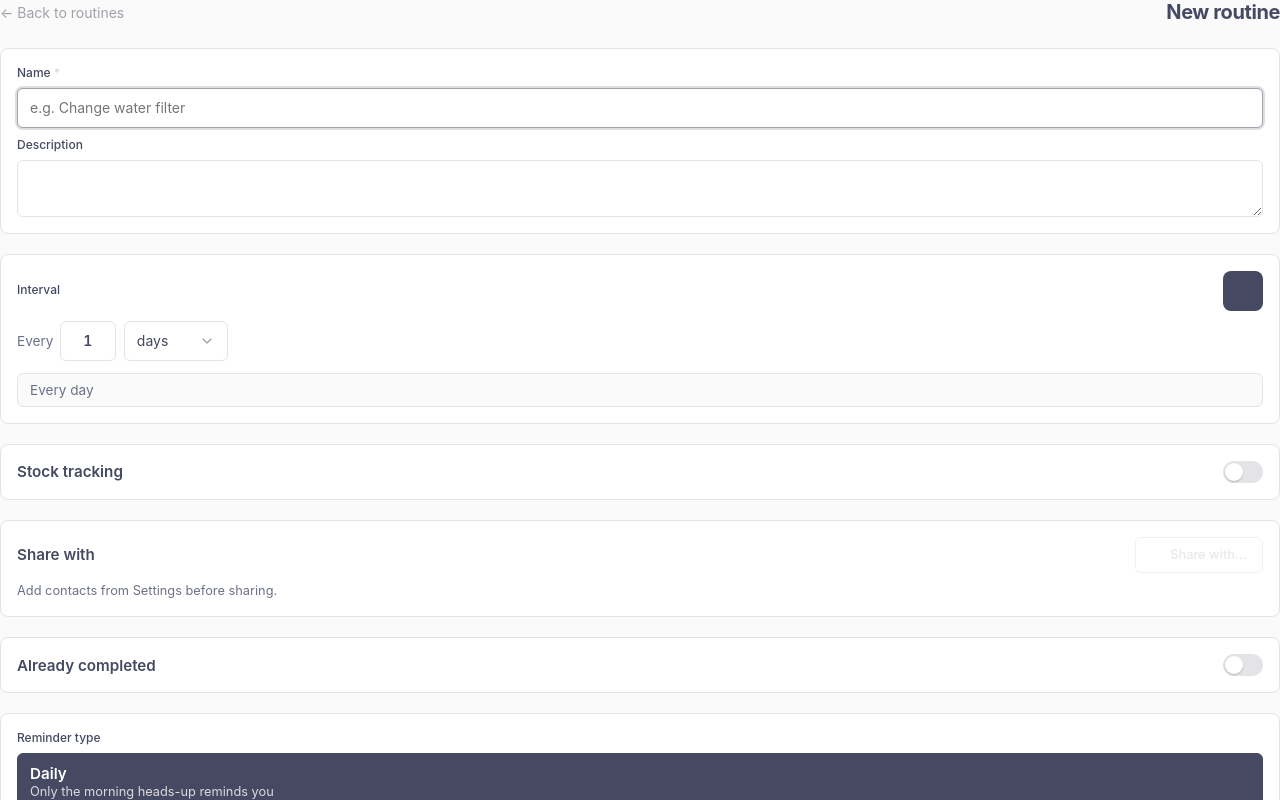
it: RoutineFormPage › shows stock fields when track stock is checked
Click the switch named "Stock tracking". click: {"x": 1243, "y": 472}
box: [1223,460,1263,482]
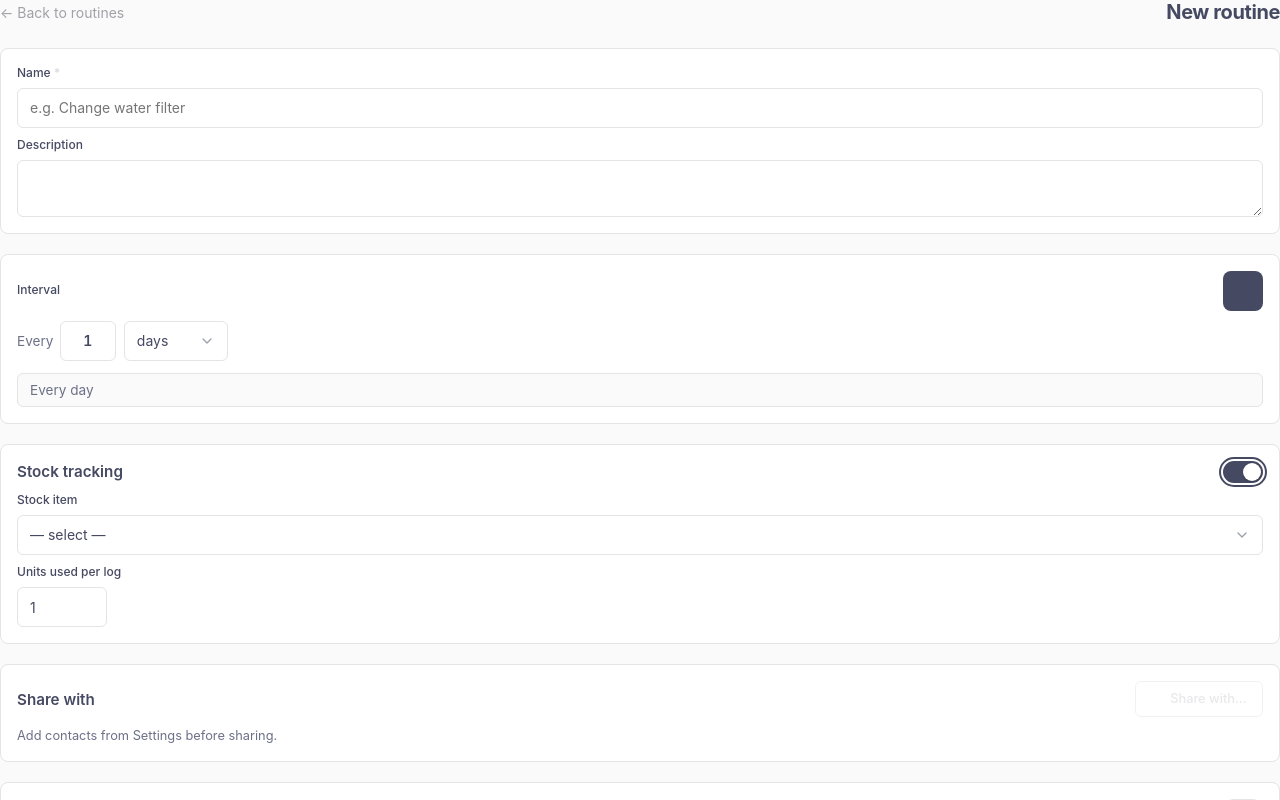
Check: the text "Stock item" is shown, box [17,492,78,507]
Check: the text "Units used per log" is shown, box [17,564,121,580]
